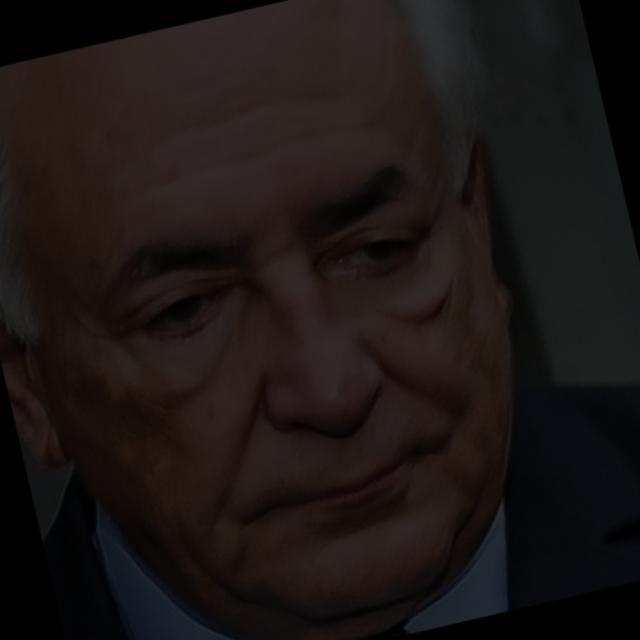Sad: (60, 125, 474, 594)
